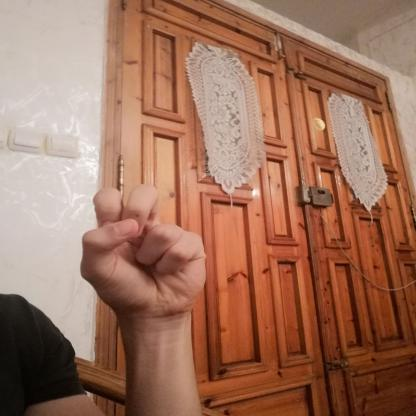QAAF: (64, 177, 218, 325)
